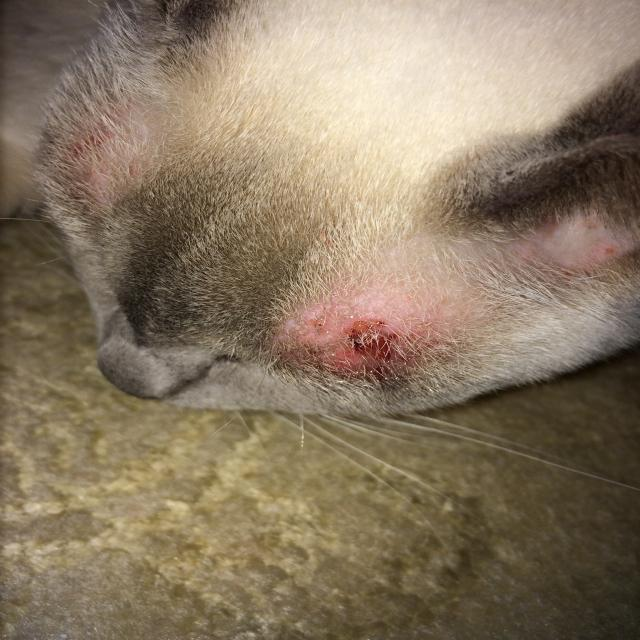hac lao: (307, 290, 438, 387)
